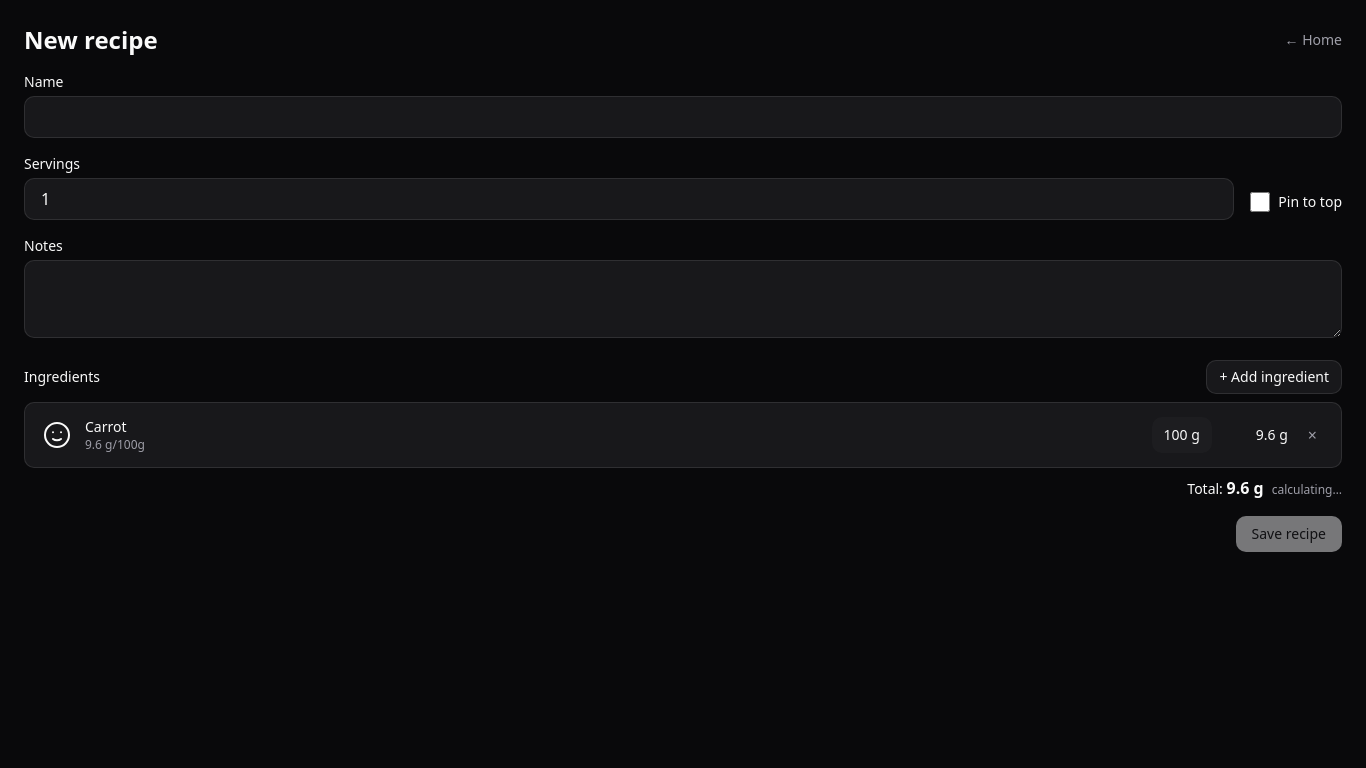
Test case: RecipeBuilder — new mode with seed › removes a row with the × button
Expected: the text "Carrot" is shown, [85,417,126,436]
What coordinates should you click on to do the following:
click the button named "remove carrot"
I would click on:
 (1312, 435)
Its box is [1300,415,1325,455].
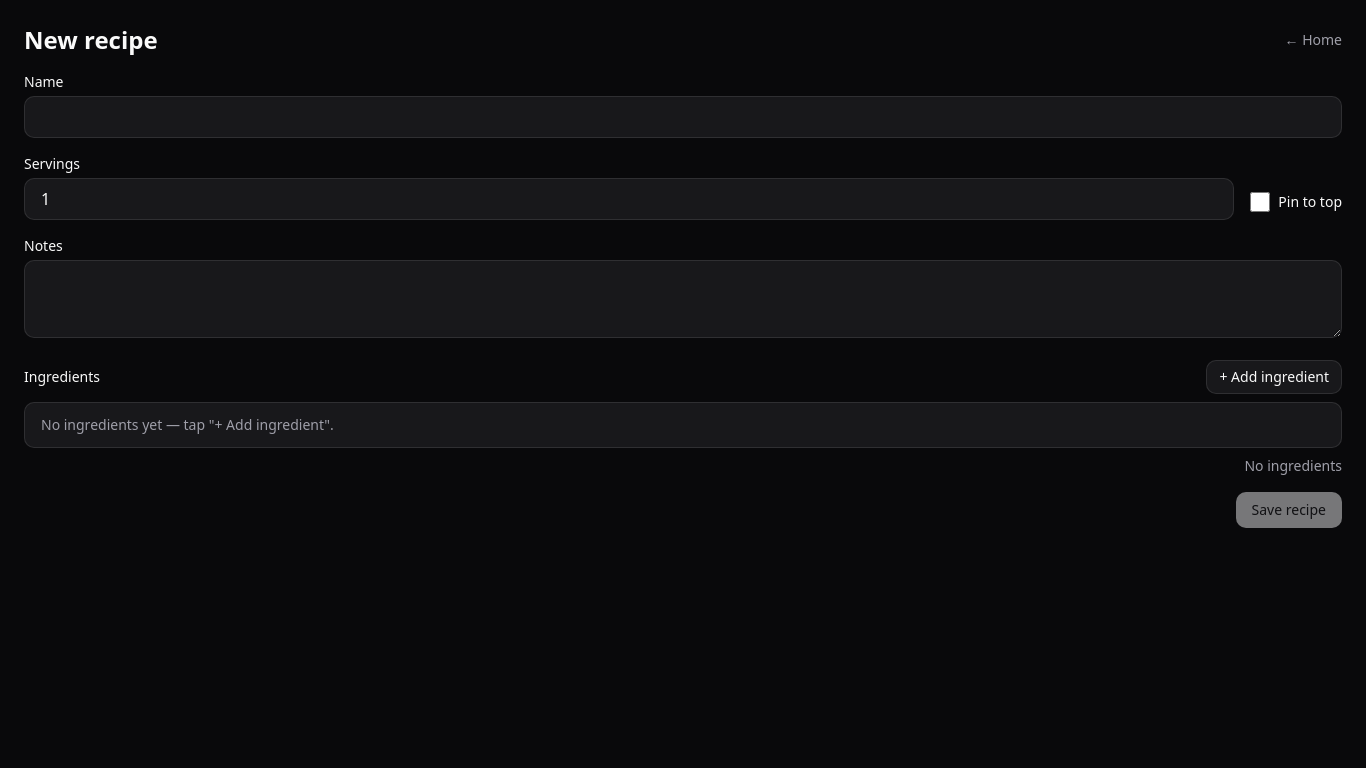
Expected: the text "Carrot" is gone
Expected: the list item "No ingredients yet — tap \"+ Add ingredient\"." is shown, [41,415,334,434]
